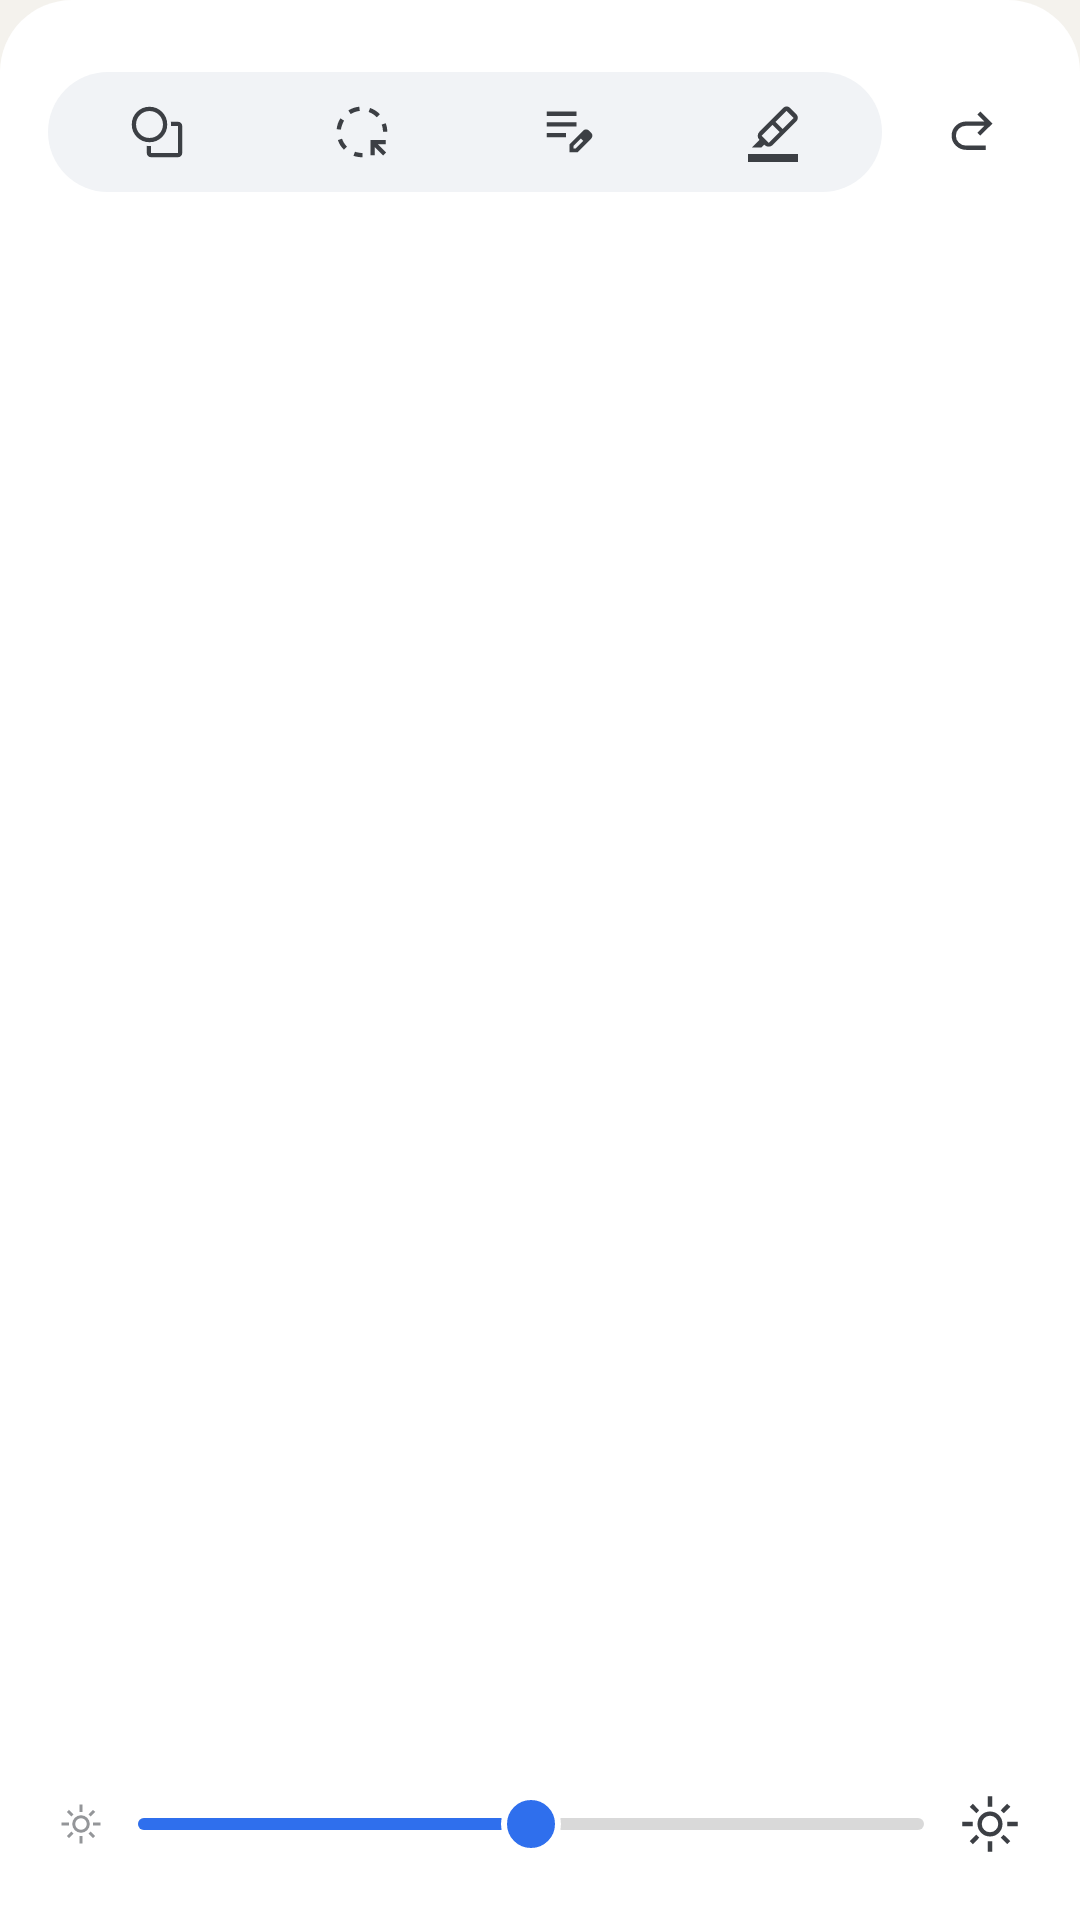

Locate icon controls on the screen. Image size 1080px x 1920px, boxes as (x1, y1, x2, y2).
sun: (962, 1796, 1018, 1852), (61, 1804, 101, 1844)
图形: (131, 106, 183, 158)
套索: (336, 106, 388, 158)
文字批注（点页面打字，点已有的框改字，拖动移位）: (546, 111, 593, 153)
荧光笔: (748, 106, 798, 162)
重做: (951, 111, 993, 150)
